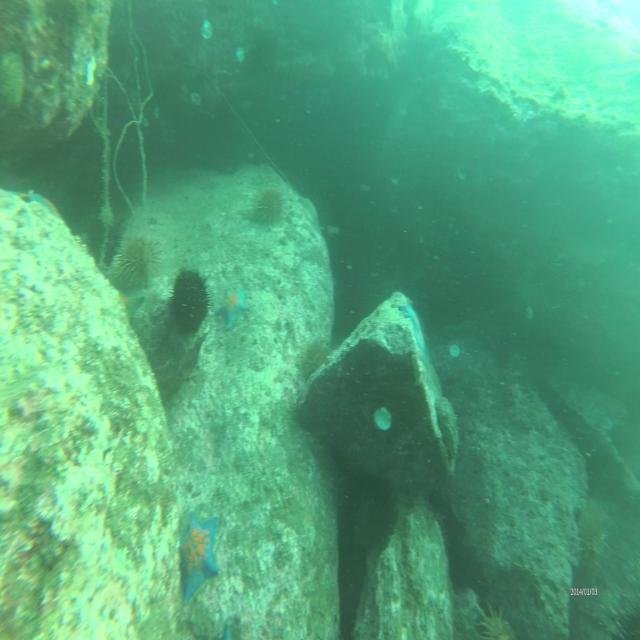echinus: (171, 265, 209, 336), (118, 237, 157, 286), (576, 504, 606, 566), (477, 604, 512, 640), (255, 188, 282, 228), (302, 342, 329, 379), (614, 607, 639, 640)
starfish: (179, 514, 221, 605), (400, 298, 428, 361), (217, 289, 249, 330)
